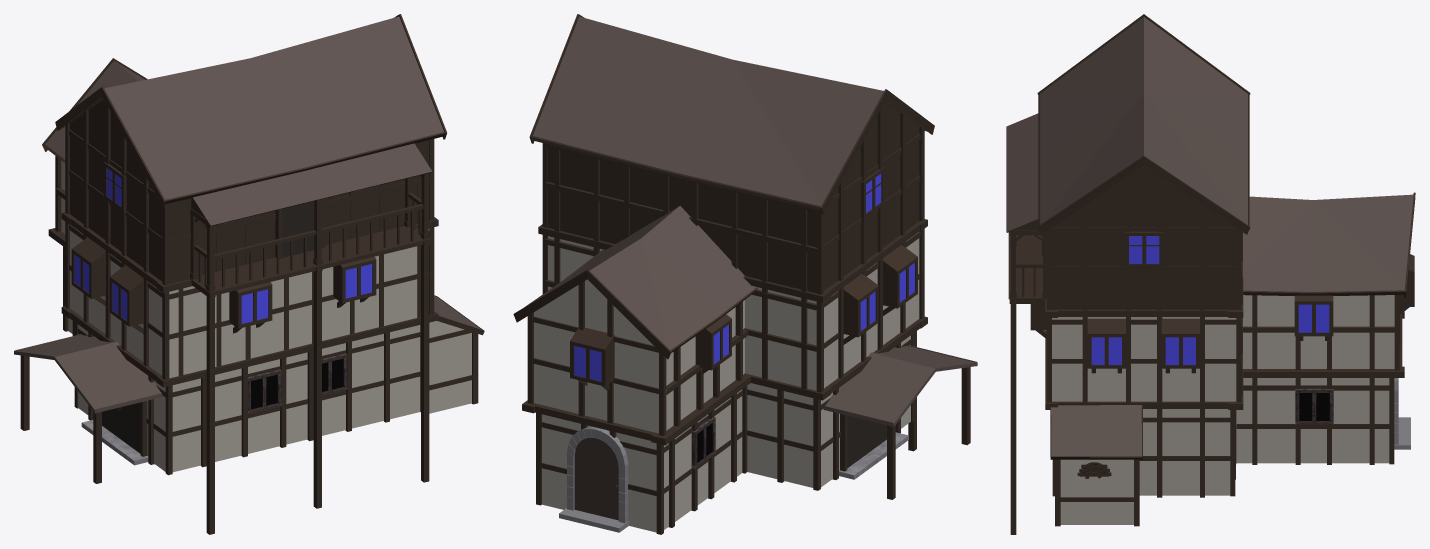
The model's file is House_Cap_7.glb.
3 renders of one model, left to right at view 1: azimuth 30°, elevation 25°; view 2: azimuth 150°, elevation 25°; view 3: azimuth 270°, elevation 25°, orthographic. The views are drawn at different scales.
Parts seen in each view (by area): view 1: House_Cap_7; view 2: House_Cap_7; view 3: House_Cap_7.
Part boxes in pixels (x1,y1,x2,y2): House_Cap_7: (14,14,484,534); House_Cap_7: (513,14,977,534); House_Cap_7: (1006,14,1415,534).
Size of the model in its own units: 8.29 by 8.45 by 7.88.
Materials: 32 (32 with a texture image).
